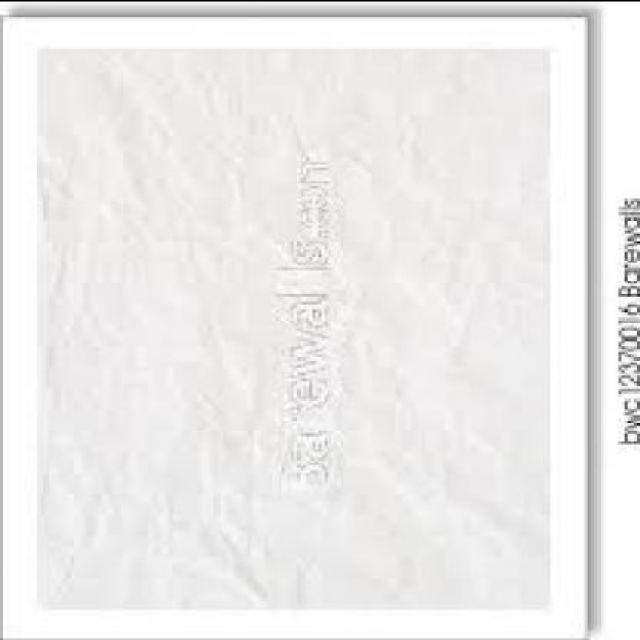PAPER: (31, 48, 554, 610)
